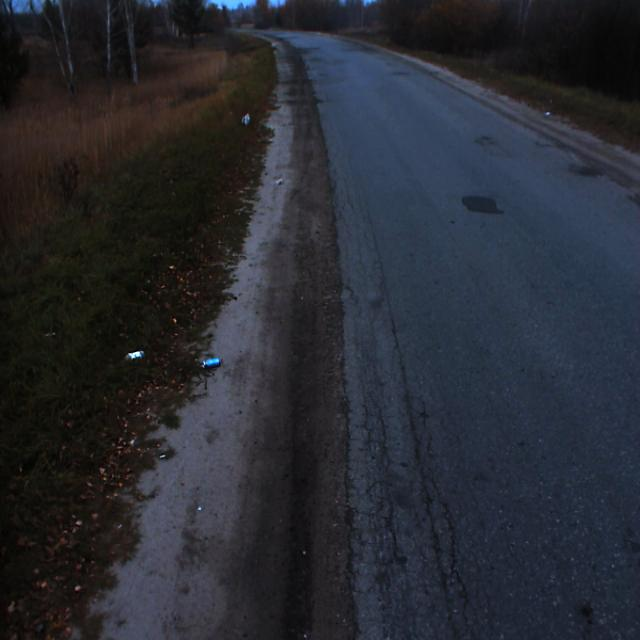road: (238, 28, 639, 639)
